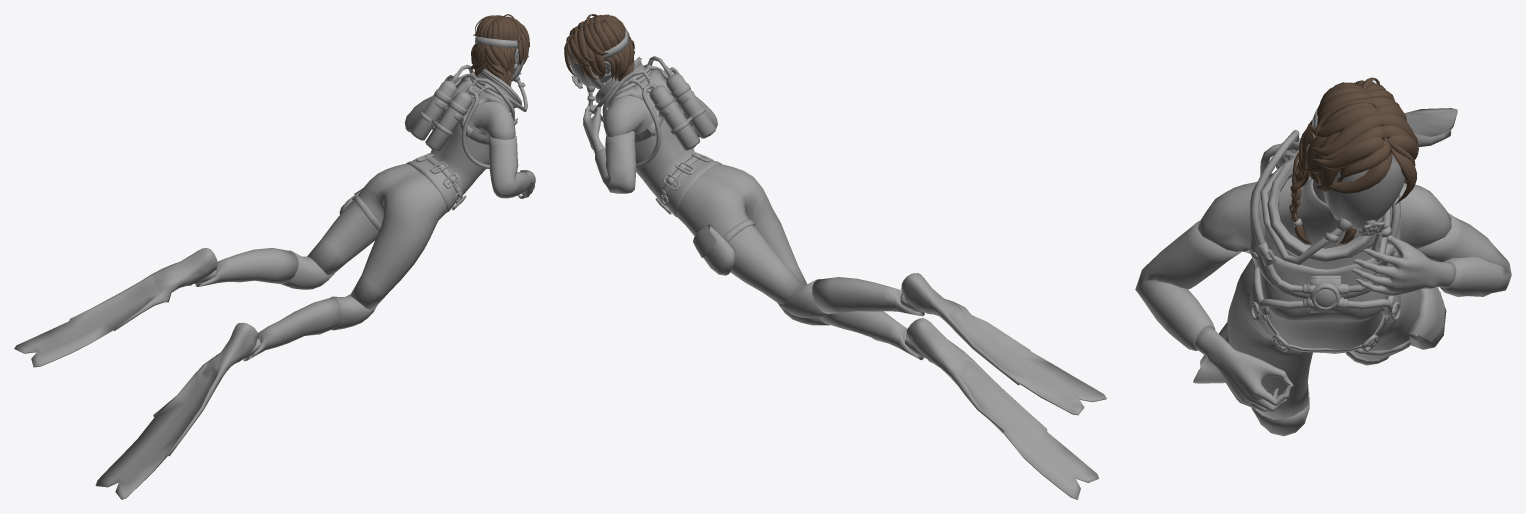
File: PlayerCharacter.fbx
3 renders of one model, left to right at view 1: azimuth 30°, elevation 25°; view 2: azimuth 150°, elevation 25°; view 3: azimuth 270°, elevation 25°, orthographic. The views are drawn at different scales.
Parts seen in each view (by area): view 1: F_BodyPants_low, F_Flippers_low, F_ShirtBody_low, F_Hair_low, F_ShirtSleeves_low, F_OxygenTanks_low, F_KneePads_low, F_Tubes_low, F_VestSidesBackStrap_low, F_HelmetNeck_low; view 2: F_Flippers_low, F_BodyPants_low, F_ShirtBody_low, F_Hair_low, F_ShirtSleeves_low, F_OxygenTanks_low, F_ThighPouch_low, F_Tubes_low, F_KneePads_low, F_VestSidesBackStrap_low, F_BodyHands_low; view 3: F_ShirtBody_low, F_Hair_low, F_ShirtSleeves_low, F_BodyHands_low, F_BodyPants_low, F_Tubes_low, F_Visor_low, F_HelmetNeck_low, F_Flippers_low, F_VestFrontStrap_low, F_ThighPouch_low, F_KneePads_low (+4 smaller).
Part boxes in pixels (x1=…): F_BodyPants_low: x1=195, y1=163, x2=446, y2=361; F_Flippers_low: x1=14, y1=248, x2=258, y2=499; F_ShirtBody_low: x1=406, y1=77, x2=515, y2=212; F_Hair_low: x1=470, y1=14, x2=529, y2=87; F_ShirtSleeves_low: x1=404, y1=95, x2=531, y2=198; F_OxygenTanks_low: x1=411, y1=80, x2=472, y2=151; F_KneePads_low: x1=281, y1=250, x2=376, y2=330; F_Tubes_low: x1=432, y1=64, x2=527, y2=168; F_VestSidesBackStrap_low: x1=440, y1=77, x2=509, y2=144; F_HelmetNeck_low: x1=470, y1=69, x2=521, y2=112; F_Flippers_low: x1=901, y1=273, x2=1106, y2=499; F_BodyPants_low: x1=676, y1=164, x2=924, y2=360; F_ShirtBody_low: x1=603, y1=70, x2=721, y2=216; F_Hair_low: x1=564, y1=14, x2=634, y2=81; F_ShirtSleeves_low: x1=595, y1=95, x2=717, y2=193; F_OxygenTanks_low: x1=649, y1=73, x2=715, y2=150; F_ThighPouch_low: x1=693, y1=224, x2=735, y2=275; F_Tubes_low: x1=588, y1=56, x2=692, y2=168; F_KneePads_low: x1=778, y1=279, x2=829, y2=325; F_VestSidesBackStrap_low: x1=609, y1=69, x2=683, y2=142; F_BodyHands_low: x1=583, y1=101, x2=605, y2=154; F_ShirtBody_low: x1=1198, y1=176, x2=1451, y2=353; F_Hair_low: x1=1289, y1=77, x2=1419, y2=243; F_ShirtSleeves_low: x1=1135, y1=213, x2=1511, y2=350; F_BodyHands_low: x1=1195, y1=235, x2=1456, y2=411; F_BodyPants_low: x1=1227, y1=258, x2=1420, y2=419; F_Tubes_low: x1=1250, y1=130, x2=1400, y2=315; F_Visor_low: x1=1324, y1=141, x2=1404, y2=229; F_HelmetNeck_low: x1=1267, y1=156, x2=1382, y2=261; F_Flippers_low: x1=1193, y1=108, x2=1457, y2=383; F_VestFrontStrap_low: x1=1258, y1=255, x2=1392, y2=298; F_ThighPouch_low: x1=1407, y1=286, x2=1446, y2=349; F_KneePads_low: x1=1251, y1=351, x2=1389, y2=436.
Size of the model in its own units: 1.95 by 0.6424 by 1.34.
